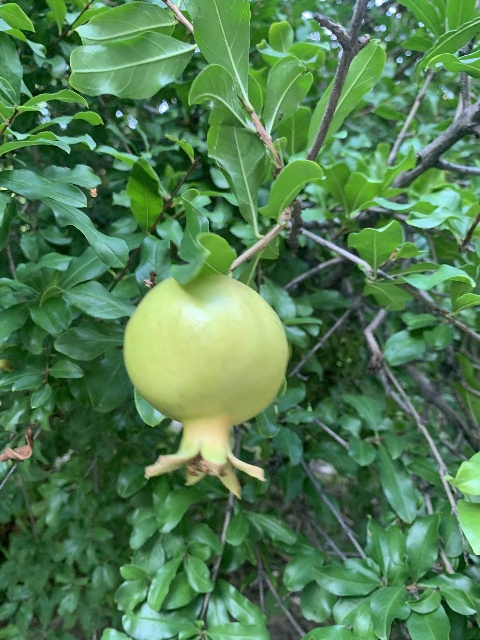mid-growth: (122, 272, 290, 499)
